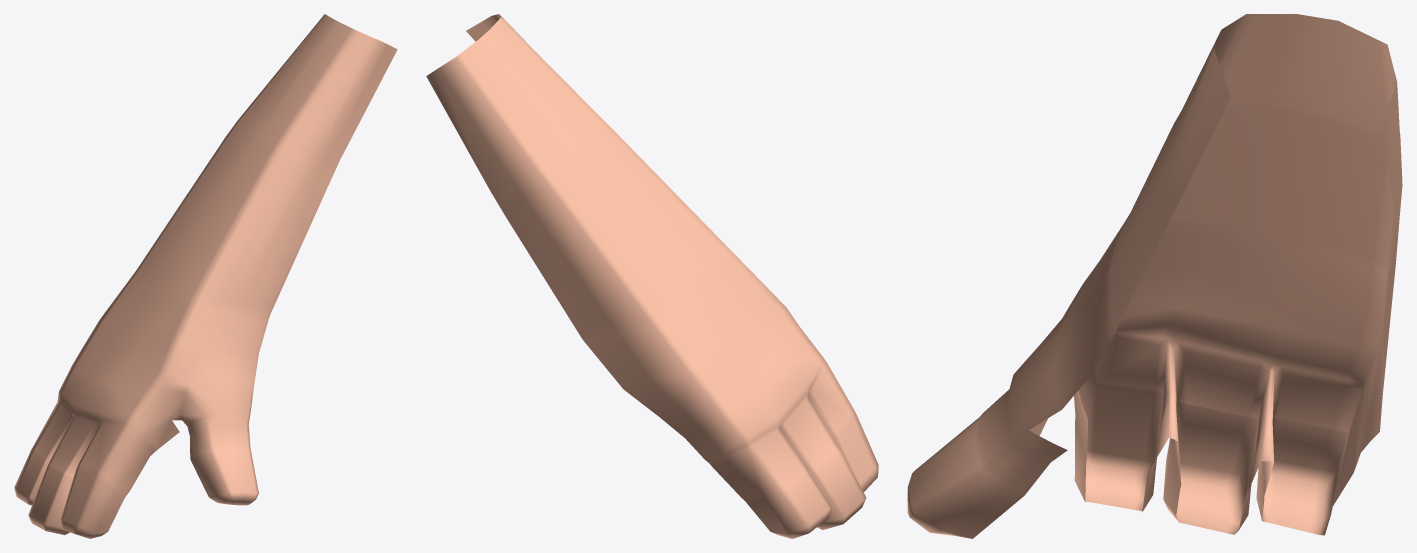
Rendered from Brazo_derecho.obj.
The picture shows the model from 3 angles, left to right: view 1: azimuth 30°, elevation 25°; view 2: azimuth 150°, elevation 25°; view 3: azimuth 270°, elevation 25°; orthographic projection. The views are drawn at different scales.
Parts seen in each view (by area): view 1: Brazoderecho; view 2: Brazoderecho; view 3: Brazoderecho.
Boxes of the visible parts, x1,y1,x2,y2 form: Brazoderecho: [14, 14, 397, 538]; Brazoderecho: [426, 14, 878, 538]; Brazoderecho: [907, 14, 1402, 538].
Size of the model in its own units: 3.67 by 3.99 by 2.25.
